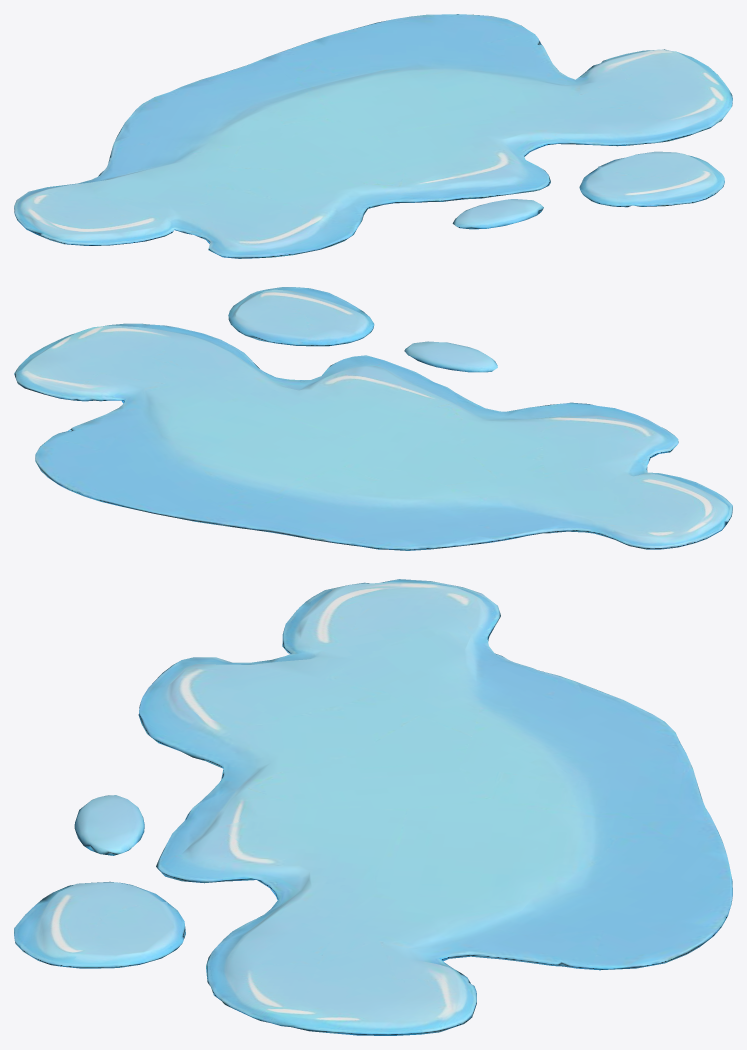
The model's file is flaque.glb.
3 renders of one model, top to bottom at view 1: azimuth 30°, elevation 25°; view 2: azimuth 150°, elevation 25°; view 3: azimuth 270°, elevation 25°, orthographic. The views are drawn at different scales.
Visible parts, largest first — view 1: tripo_node_fdac711a-b716-4333-ba65-06753356aa9f; view 2: tripo_node_fdac711a-b716-4333-ba65-06753356aa9f; view 3: tripo_node_fdac711a-b716-4333-ba65-06753356aa9f.
Part boxes in pixels (left/top/right/bottom): tripo_node_fdac711a-b716-4333-ba65-06753356aa9f: left=14, top=14, right=732, bottom=258; tripo_node_fdac711a-b716-4333-ba65-06753356aa9f: left=14, top=287, right=732, bottom=550; tripo_node_fdac711a-b716-4333-ba65-06753356aa9f: left=14, top=579, right=732, bottom=1035.
Size of the model in its own units: 1 by 0.0114 by 0.6696.
Materials: 1 (1 with a texture image).
